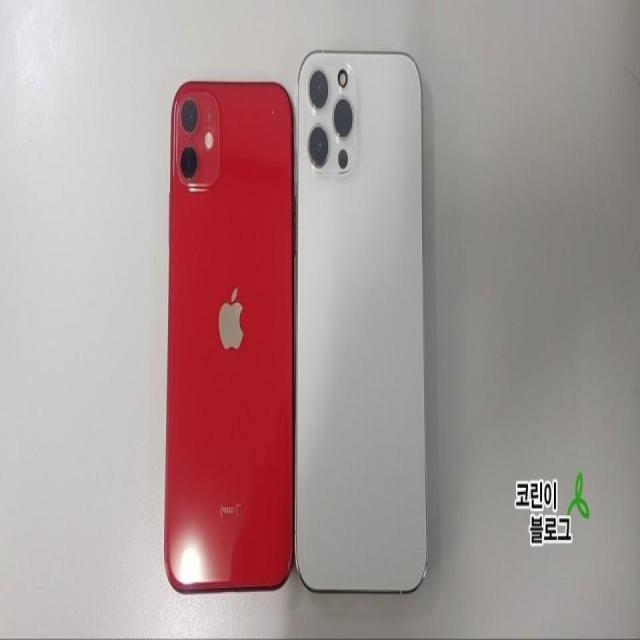lens: (302, 66, 356, 175), (176, 93, 218, 180)
phone: (297, 48, 428, 598), (163, 76, 295, 605)
